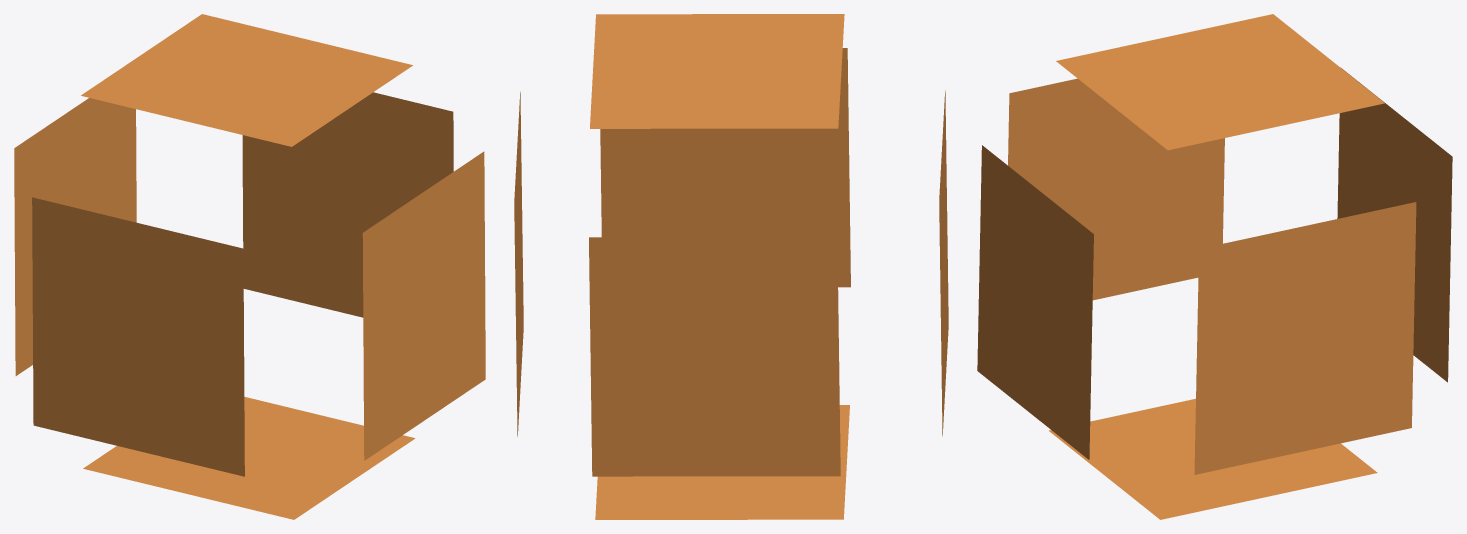
The model's file is cube.067_lev2.glb.
3 renders of one model, left to right at view 1: azimuth 30°, elevation 25°; view 2: azimuth 150°, elevation 25°; view 3: azimuth 270°, elevation 25°, orthographic. The views are drawn at different scales.
Parts seen in each view (by area): view 1: cube.067_lev2; view 2: cube.067_lev2; view 3: cube.067_lev2.
Part boxes in pixels (box(x1,y1,x2,y2)): cube.067_lev2: box(14, 14, 485, 519); cube.067_lev2: box(514, 14, 948, 519); cube.067_lev2: box(977, 14, 1452, 519).
Size of the model in its own units: 0.1503 by 0.1322 by 0.1514.
